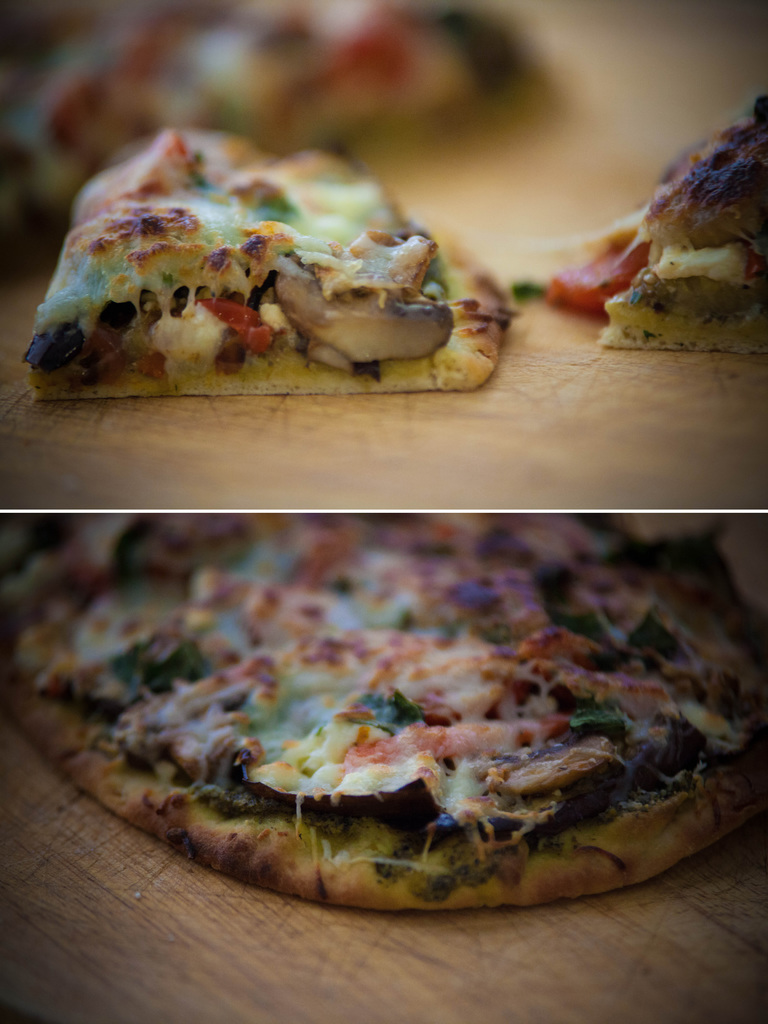Pizza: (0, 554, 768, 915), (28, 115, 499, 403), (11, 0, 539, 224), (543, 89, 767, 364)
